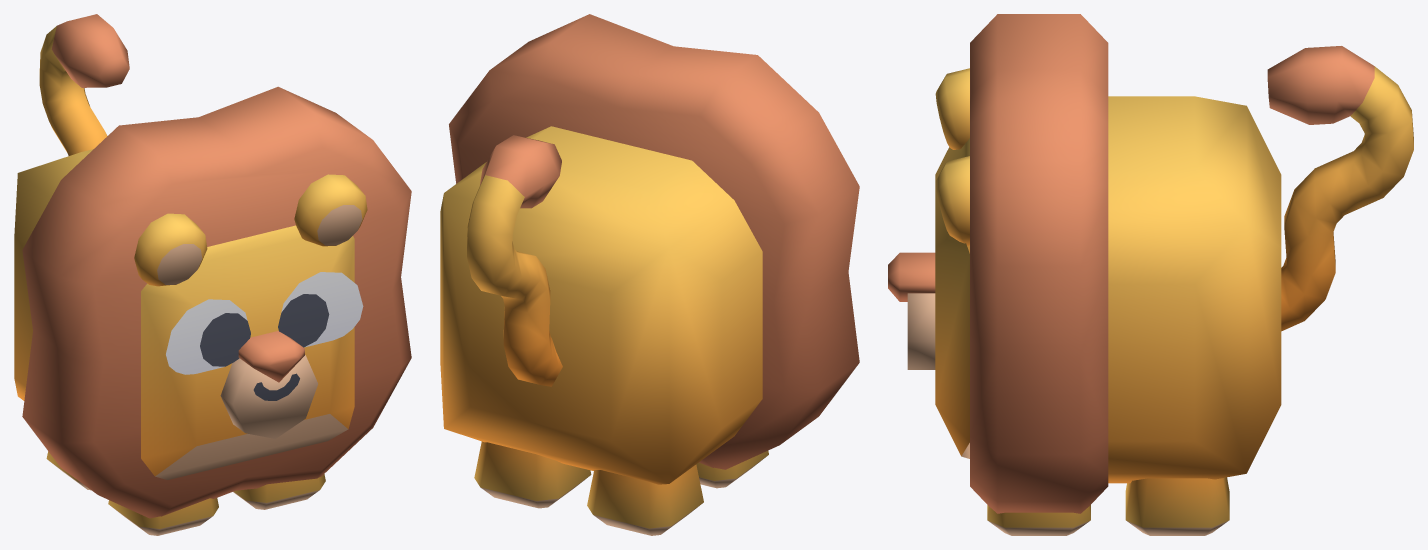
The model's file is animal-lion.obj.
3 renders of one model, left to right at view 1: azimuth 30°, elevation 25°; view 2: azimuth 150°, elevation 25°; view 3: azimuth 270°, elevation 25°, orthographic. The views are drawn at different scales.
Parts seen in each view (by area): view 1: body, tail, leg-front-right, leg-front-left; view 2: body, tail, leg-back-right, leg-back-left, leg-front-right; view 3: body, tail, leg-back-left, leg-front-left.
Part boxes in pixels (x1,y1,x2,y2): body: (14,86,411,518); tail: (39,14,129,155); leg-front-right: (108,498,218,535); leg-front-left: (233,474,325,509); body: (440,14,859,484); tail: (467,135,562,386); leg-back-right: (587,464,703,535); leg-back-left: (474,441,591,508); leg-front-right: (696,451,768,488); body: (888,14,1281,513); tail: (1267,46,1413,331); leg-back-left: (1125,477,1229,535); leg-front-left: (987,505,1090,535).
Bounding box in the file's own units: 1.65 × 1.75 × 1.9.
